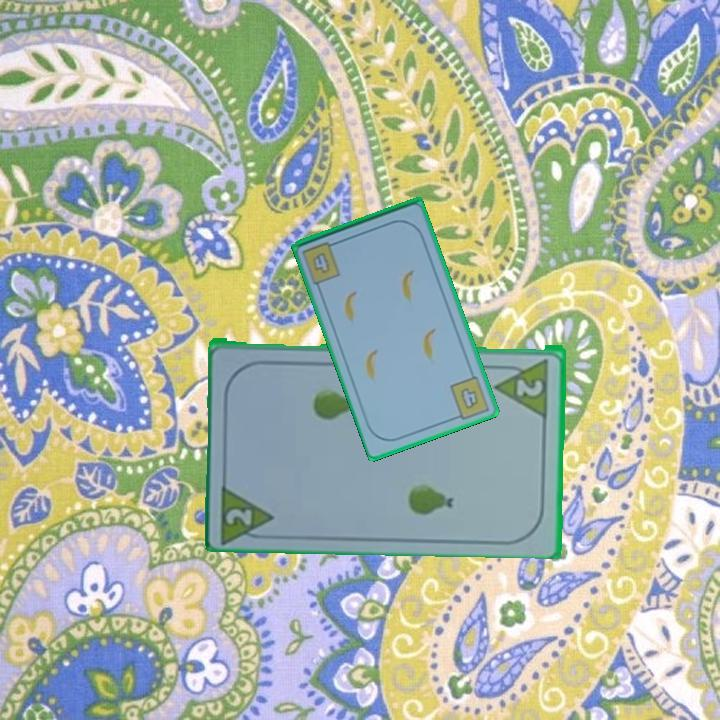2p: (222, 504, 256, 528), (513, 375, 546, 399)
4b: (446, 372, 493, 423), (309, 249, 333, 277)
